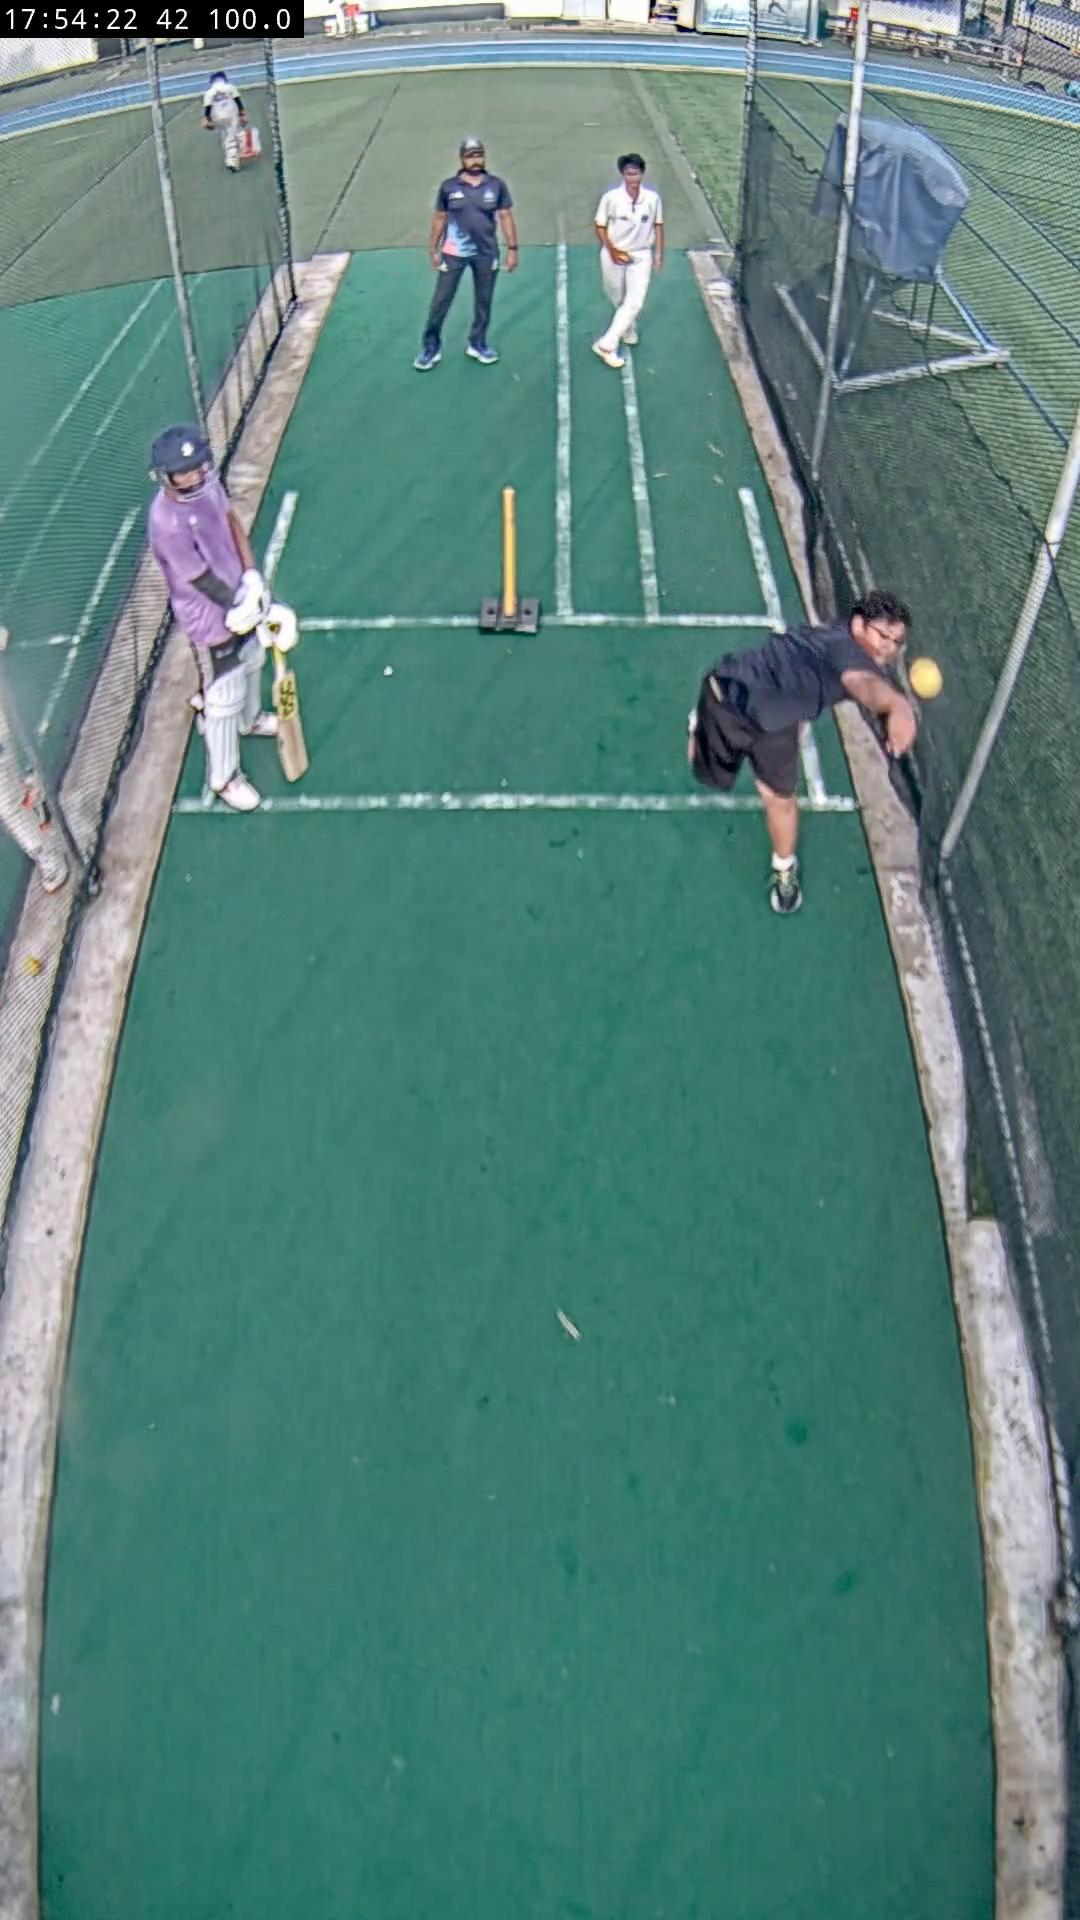ball: (907, 657, 945, 702)
stumps: (480, 488, 541, 634)
